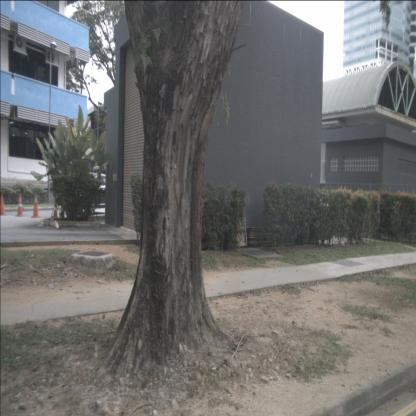movable_object-trafficcone: (30, 196, 42, 218), (15, 194, 25, 216), (0, 193, 7, 216), (51, 198, 58, 219), (59, 200, 66, 219)
vehicle-car: (70, 172, 121, 214)
